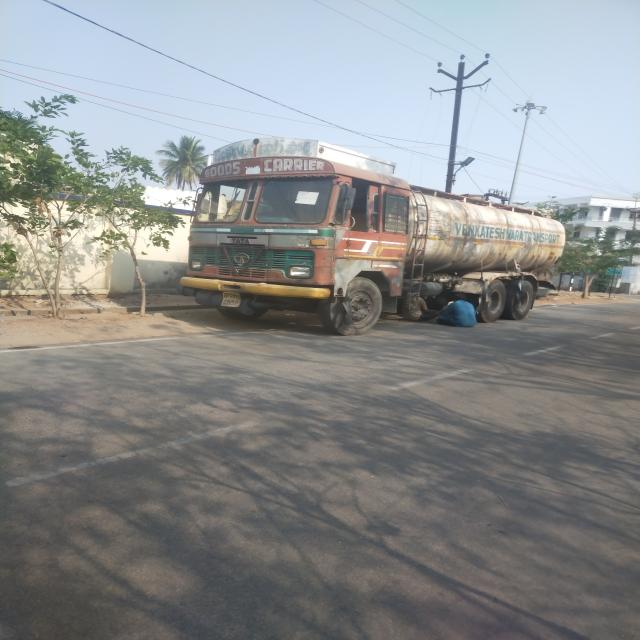Truck: (188, 122, 601, 330)
